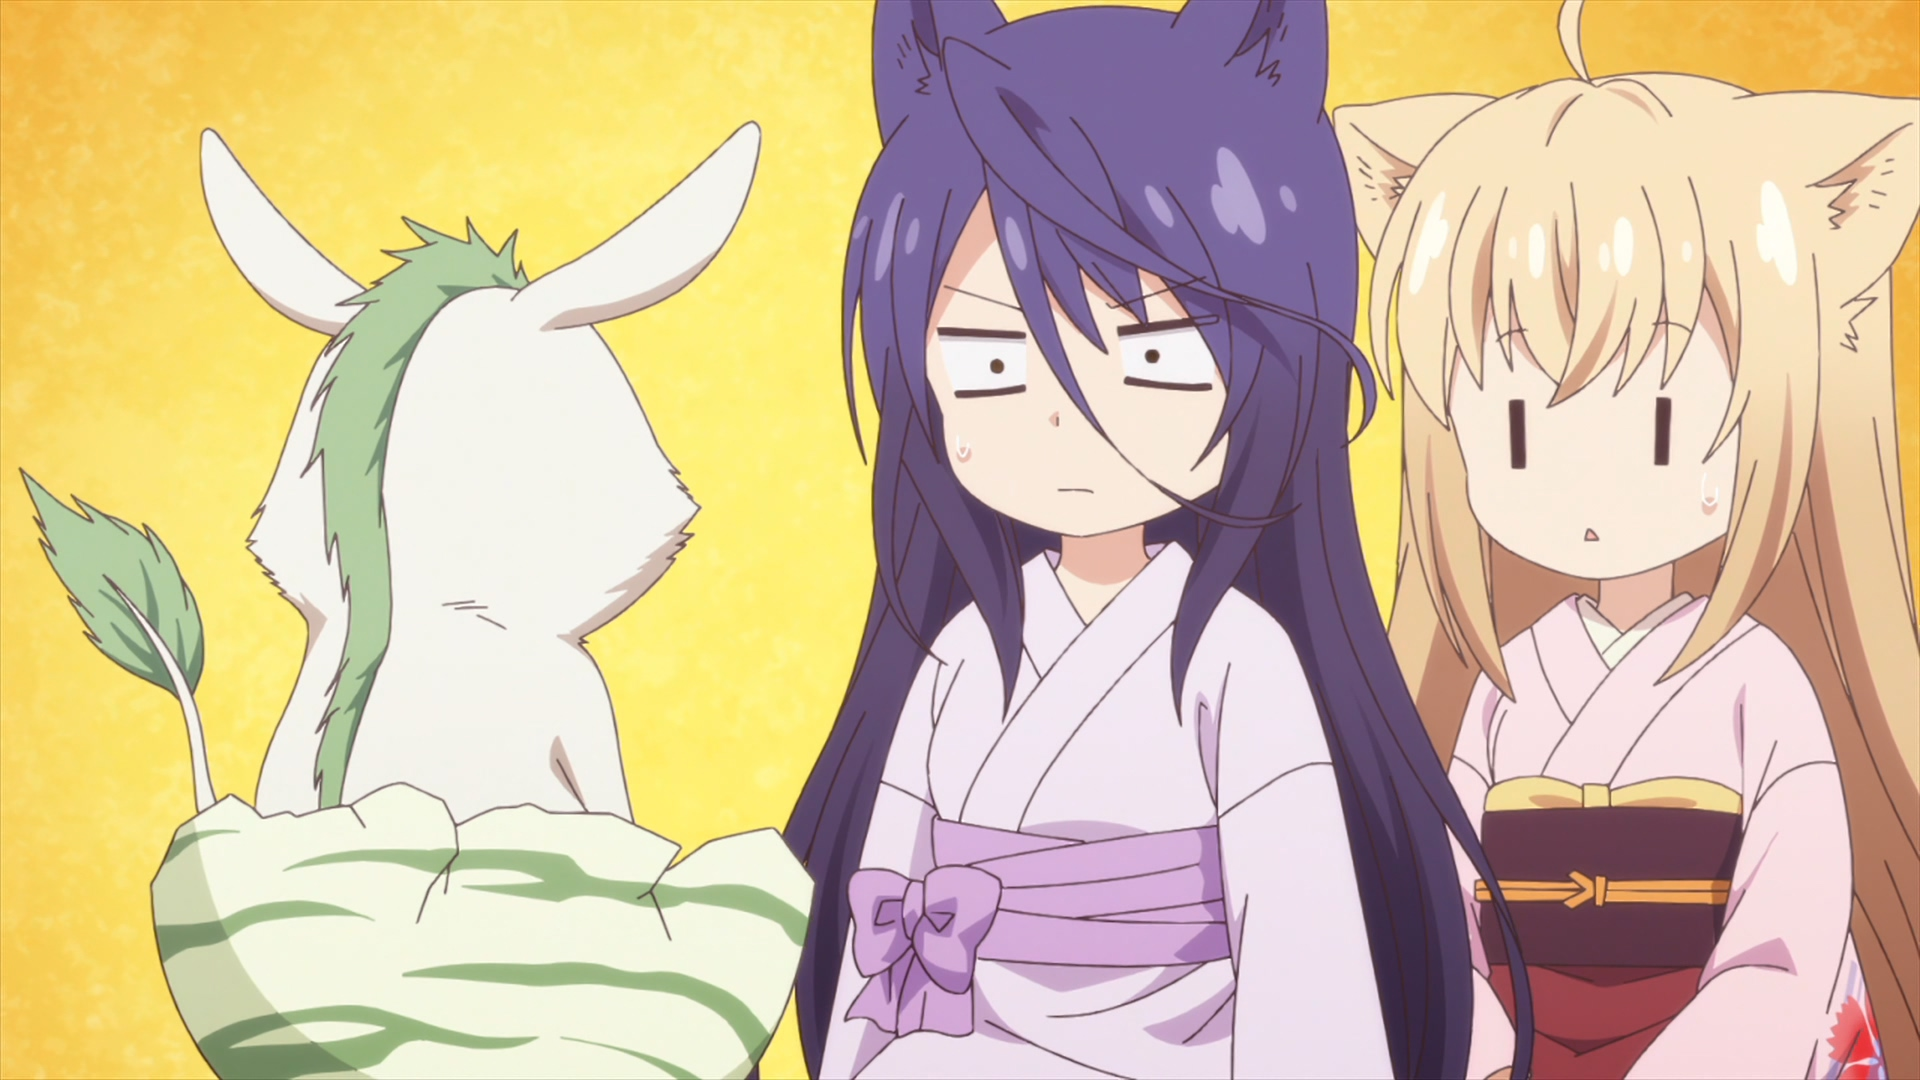柚: (1332, 1, 1920, 1080)
瓜之介: (17, 121, 767, 825)
皋: (782, 1, 1534, 1080)
